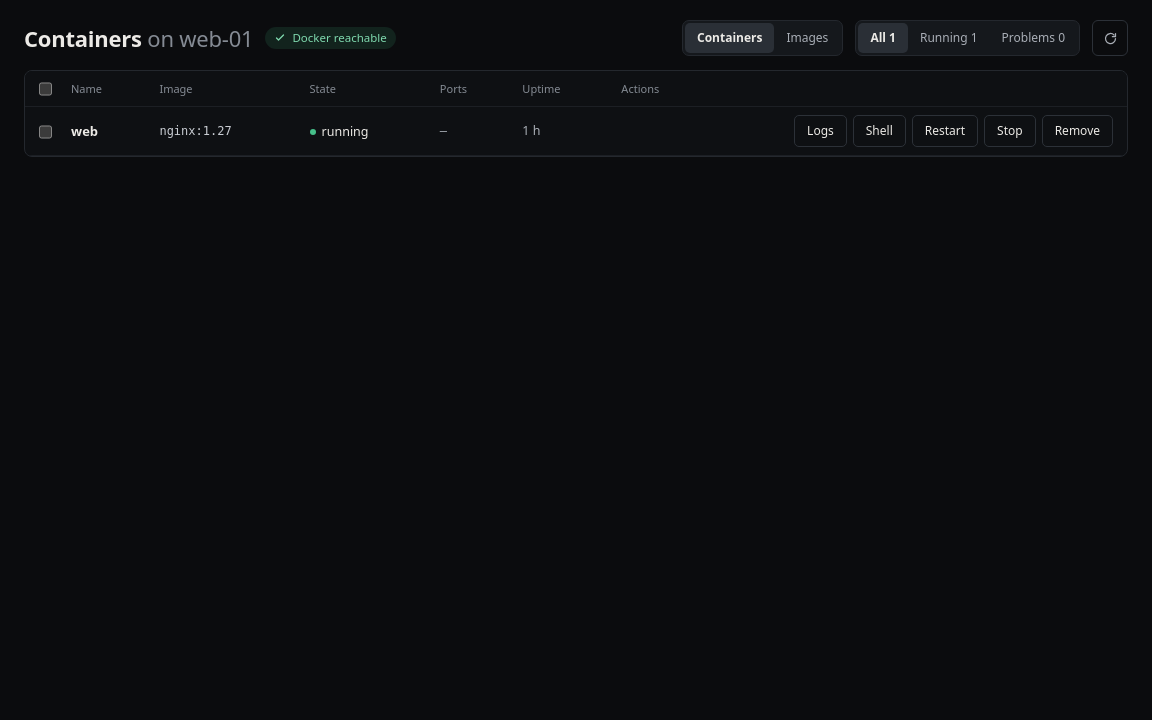
Test: Docker images › removes an image after confirmation and skips the dialog once it is turned off
Expected: the text "Docker reachable" is shown, [266,27,396,49]
Click the button "Images" at {"x": 807, "y": 38}, box [774,23,840,53]
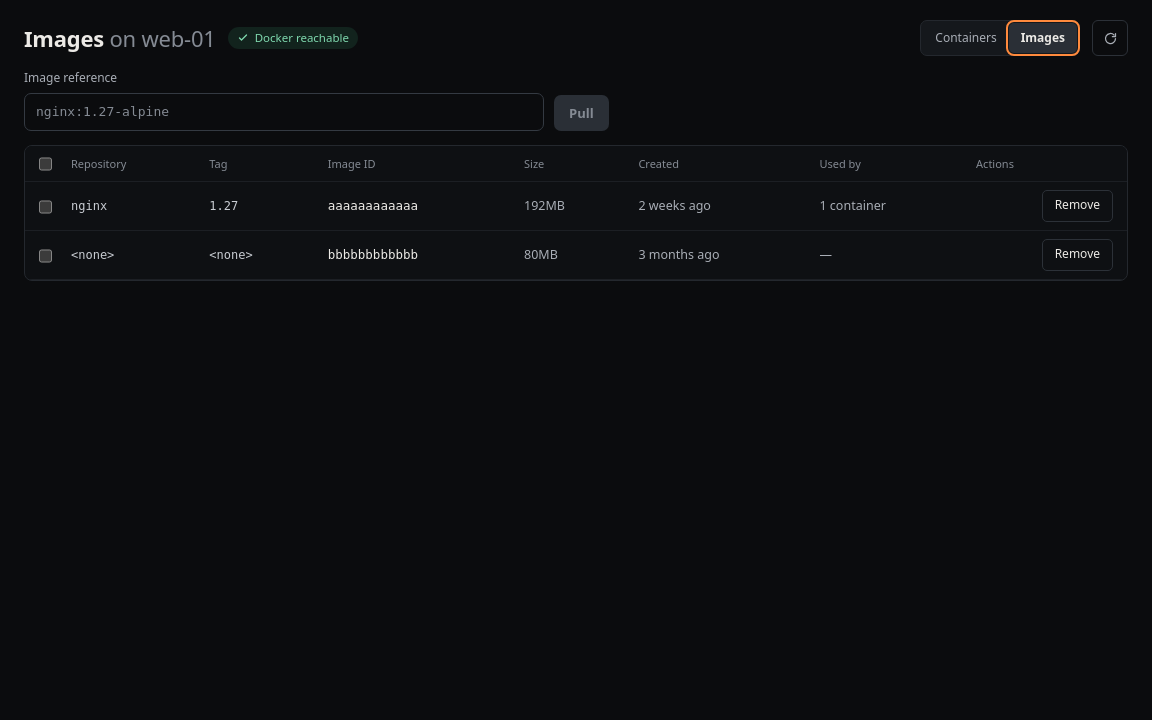
Expected: the text "192MB" is shown, [510,181,624,230]
Click the button with aria-label "Remove image nginx:1.27" at {"x": 1077, "y": 206}, box [1042,190,1113,222]
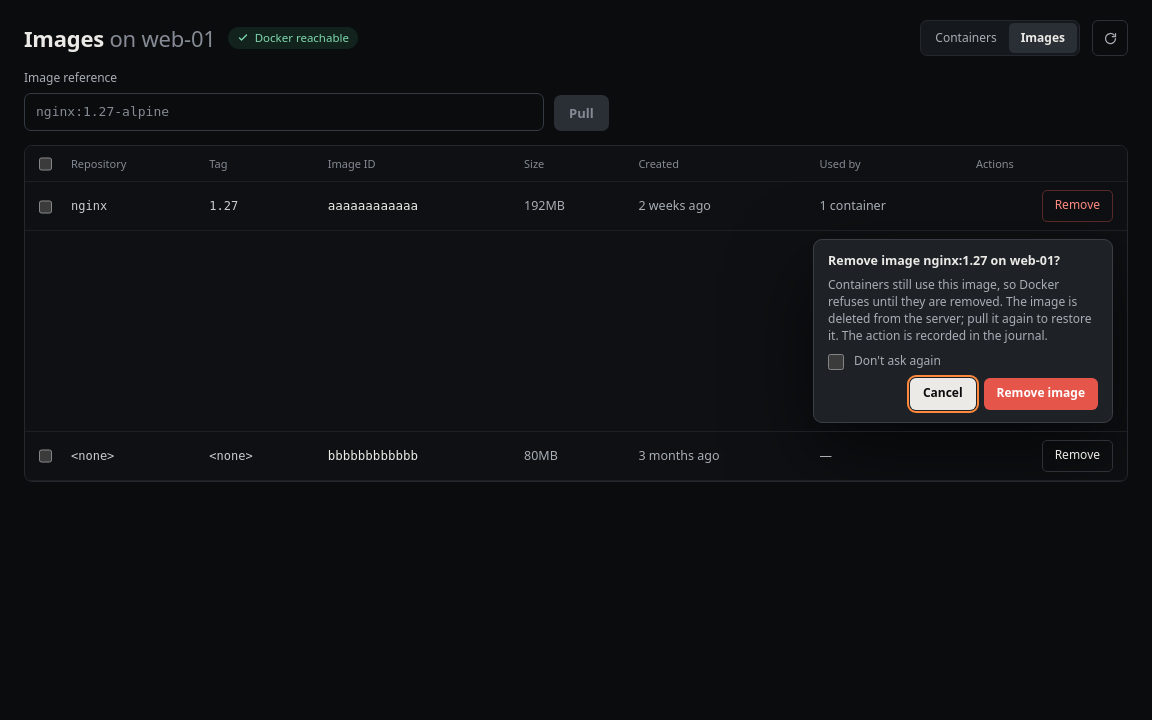
Click the button "Remove image" at {"x": 1041, "y": 394}, box [984,378,1098,410]
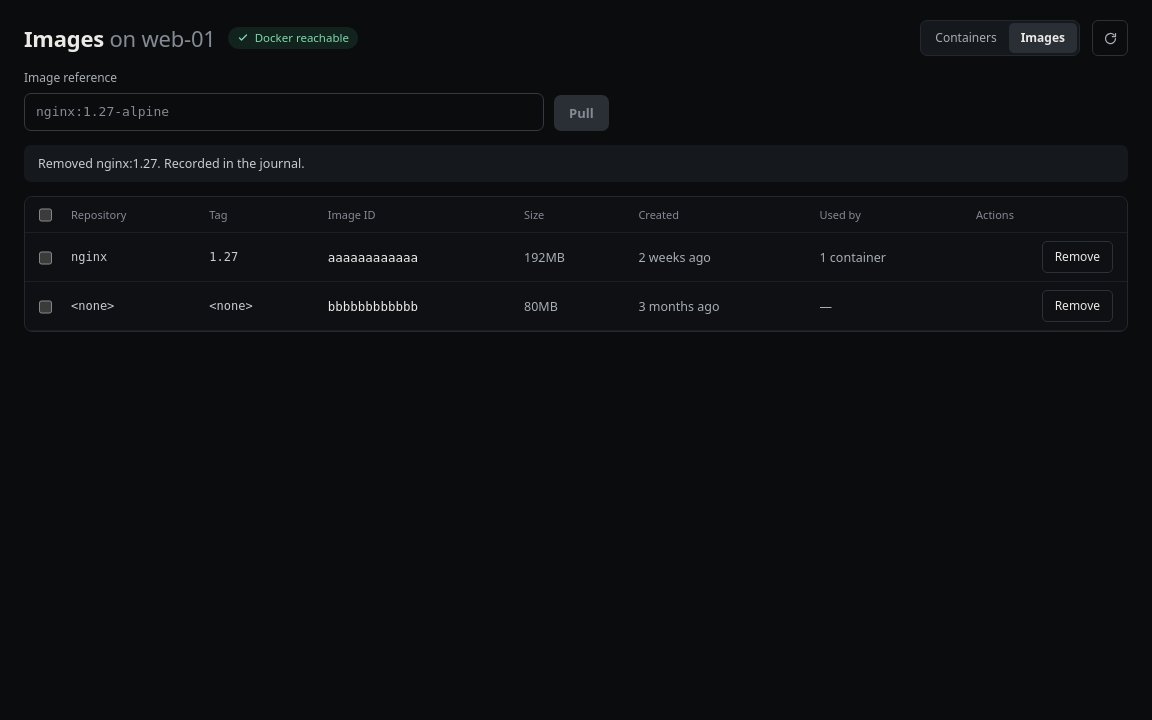
Expected: the text "Removed nginx:1.27. Recorded in the journal." is shown, [24,145,1128,182]
Click the button with aria-label "Remove image sha256:bbbbbbbbbbbbbbbb" at {"x": 1077, "y": 306}, box [1042,290,1113,322]
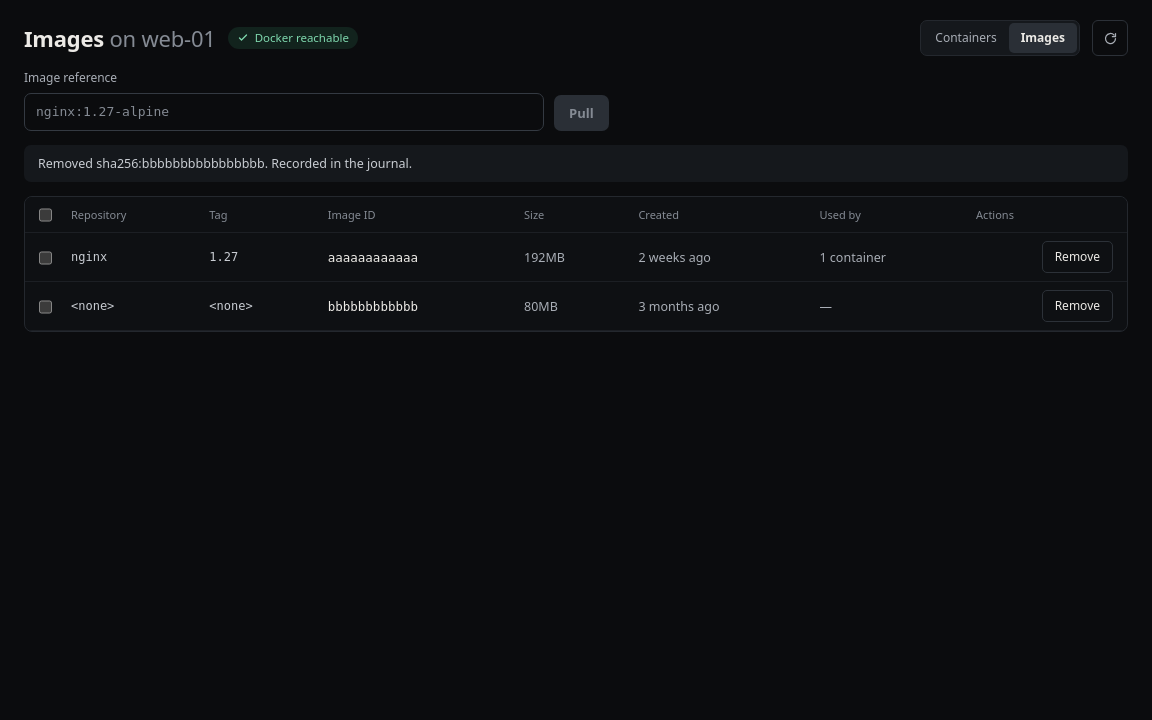
Expected: the text "Removed sha256:bbbbbbbbbbbbbbbb. Recorded in the journal." is shown, [24,145,1128,182]
